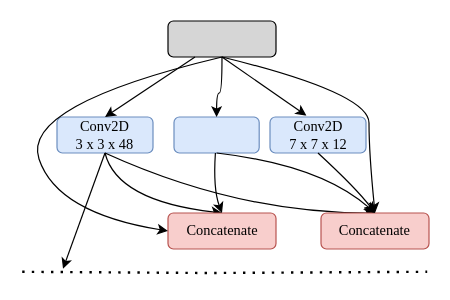
Some shapes in this 450 by 300 pixel diagram are drawn without their labels. Each missing label, with the box of its shape:
Conv2D 5 x 5x 24: (173, 116, 259, 153)
Input: (167, 20, 276, 57)
